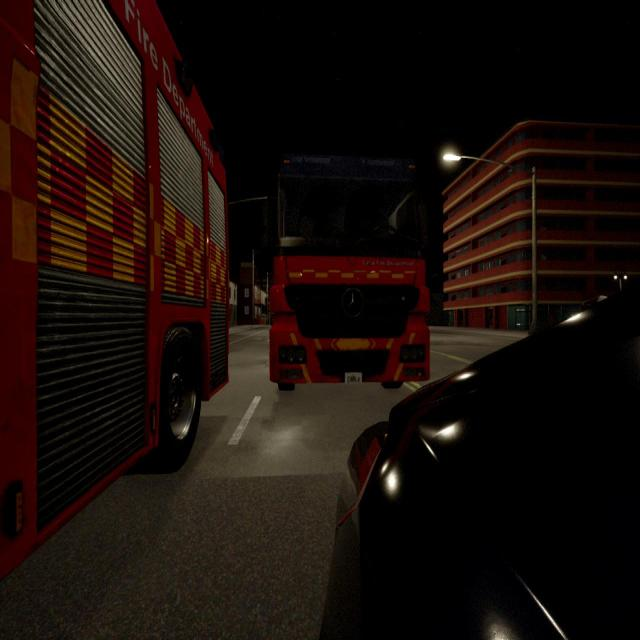Vehicle: (0, 0, 225, 575), (332, 288, 640, 639), (272, 164, 431, 380)
